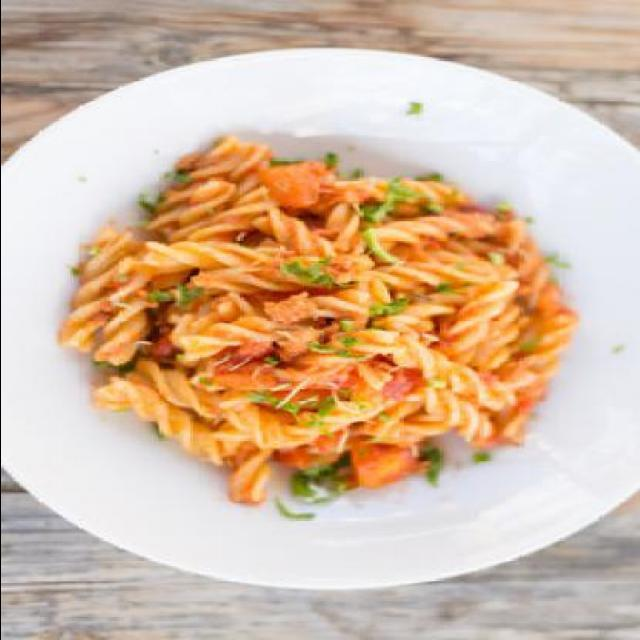Pasta al ragu: (70, 126, 578, 546)
